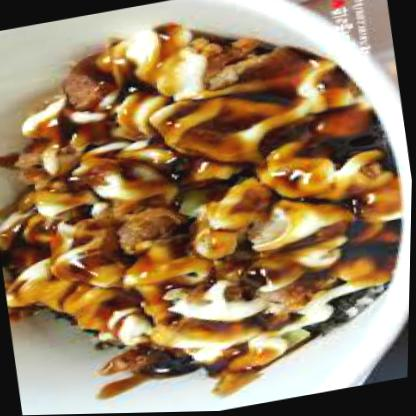cup rice: (0, 5, 415, 411)
